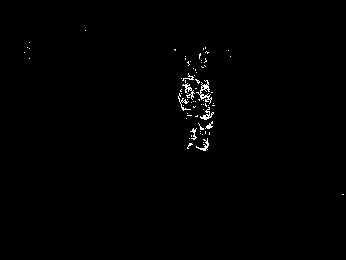person: (179, 68, 197, 147), (197, 79, 212, 152)
